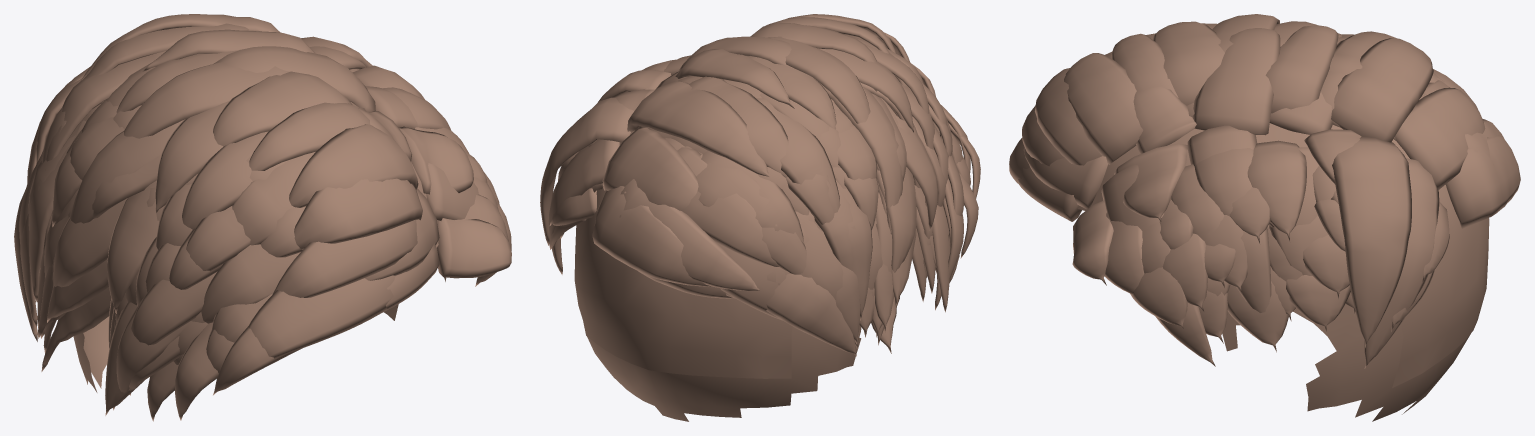
File: hair_anime_male_side_part_comb_over.glb
3 views of the same model, side by side, from view 1: azimuth 30°, elevation 25°; view 2: azimuth 150°, elevation 25°; view 3: azimuth 270°, elevation 25° (orthographic). The views are drawn at different scales.
Visible parts, largest first — view 1: AM_Hair_SidePartCombOver.001; view 2: AM_Hair_SidePartCombOver.001; view 3: AM_Hair_SidePartCombOver.001.
Part boxes in pixels (<box>): AM_Hair_SidePartCombOver.001: <box>14,14,511,421</box>; AM_Hair_SidePartCombOver.001: <box>540,14,980,421</box>; AM_Hair_SidePartCombOver.001: <box>1009,14,1520,421</box>.
Size of the model in its own units: 0.2053 by 0.1925 by 0.2551.
